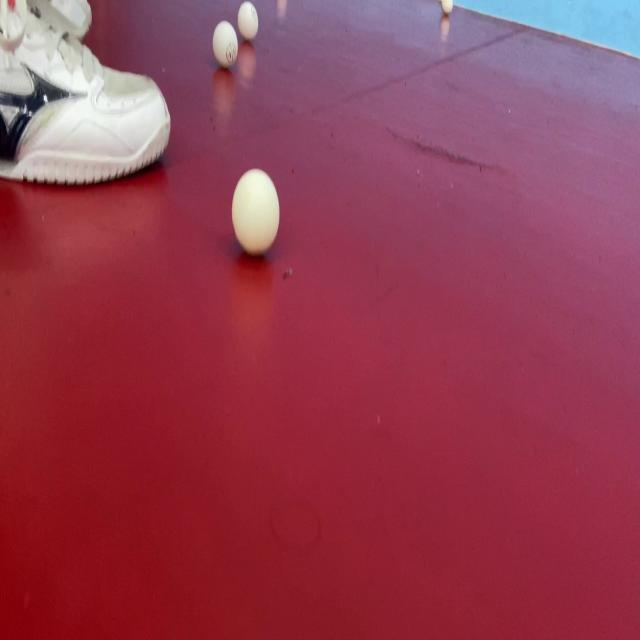ping-pong-ball: (223, 159, 289, 270), (204, 13, 246, 70), (235, 0, 263, 44), (435, 0, 460, 19)
